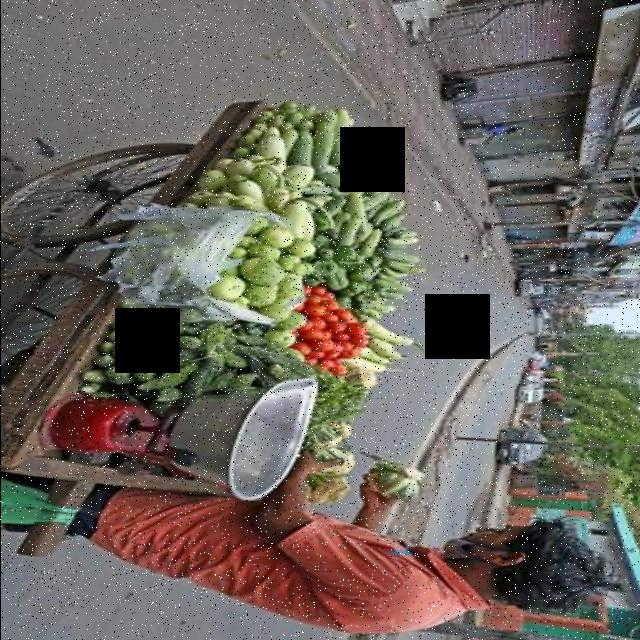food-booth: (0, 100, 423, 553)
